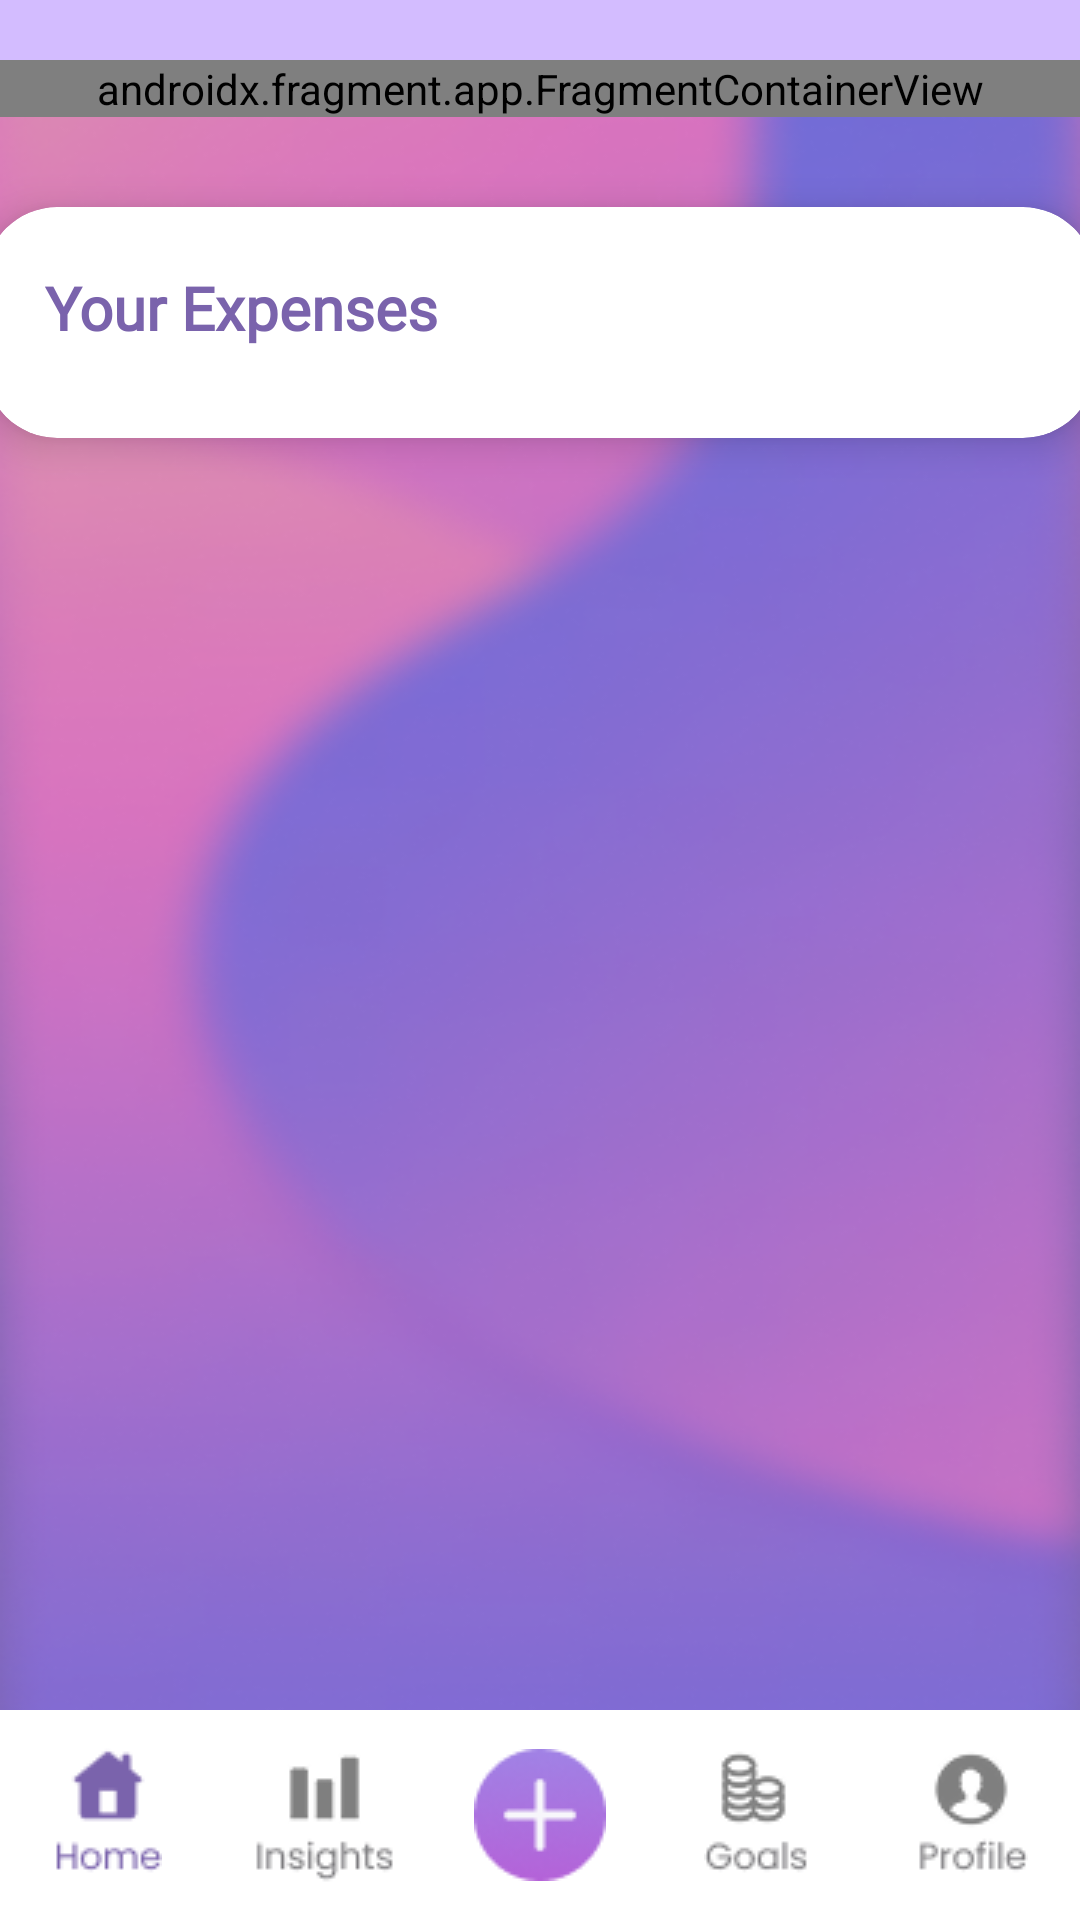

Point at icon controls on the screen. Image size 1080×1920, points as [x,y].
Add: [540,1815]
